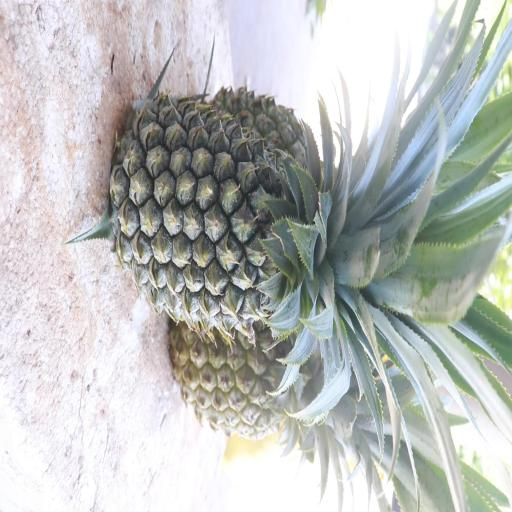------------------------------: (168, 246, 399, 440)
